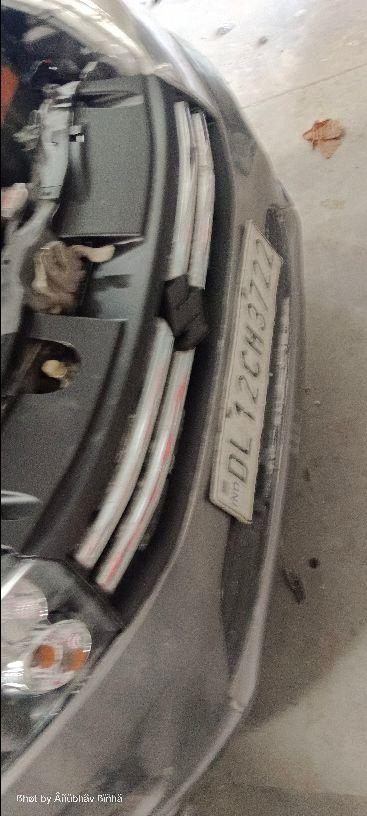license_plate: (1, 1, 306, 813), (207, 218, 284, 524)
